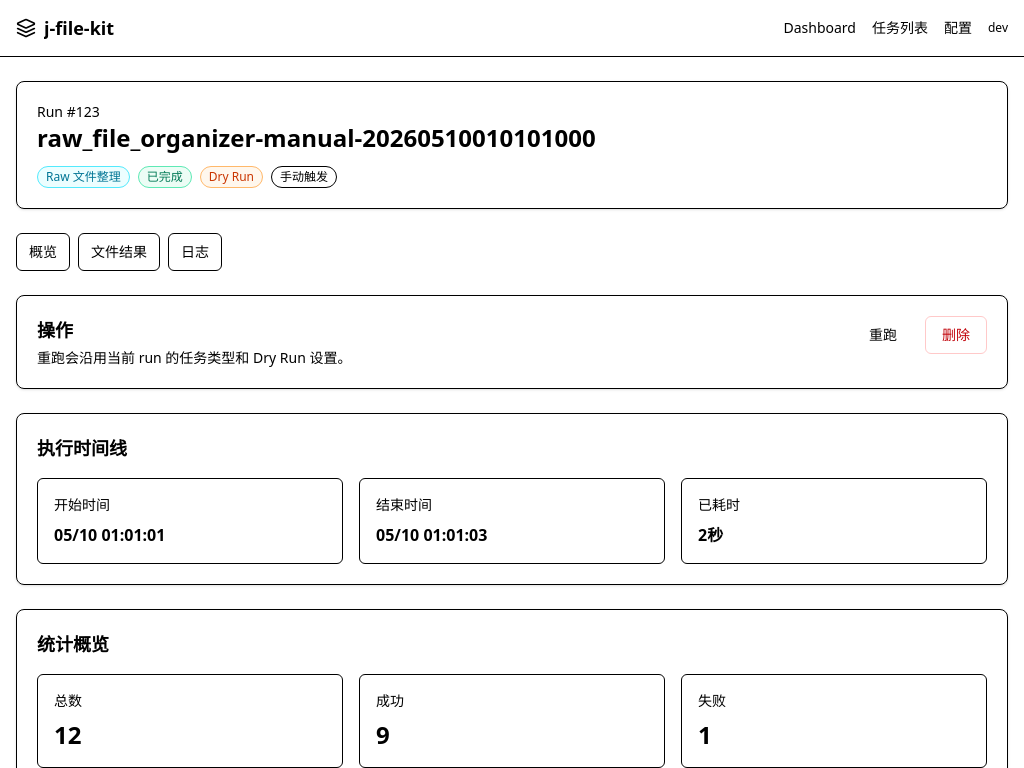
Test: Task detail page › changes task log pages
Click the tab "日志": x=195, y=252 [168,233,222,271]
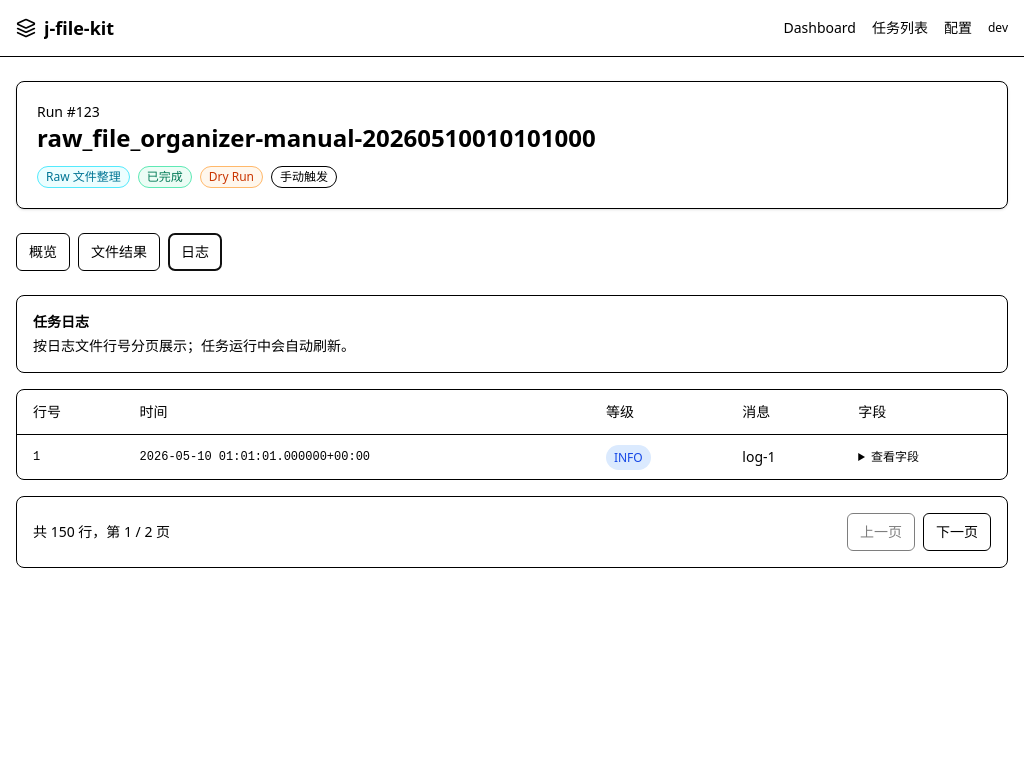
Expected: the text "log-1" is shown, [742,447,776,466]
Click the button "下一页": x=957, y=532 [923,513,991,551]
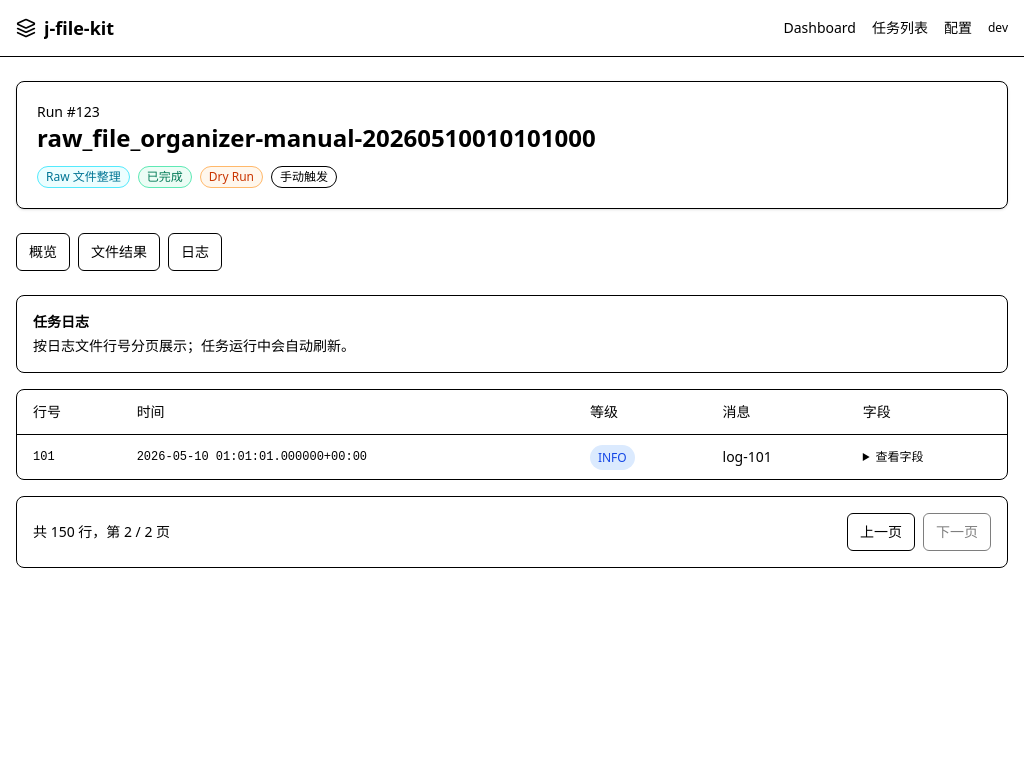
Expected: the text "log-101" is shown, [722,447,772,466]
